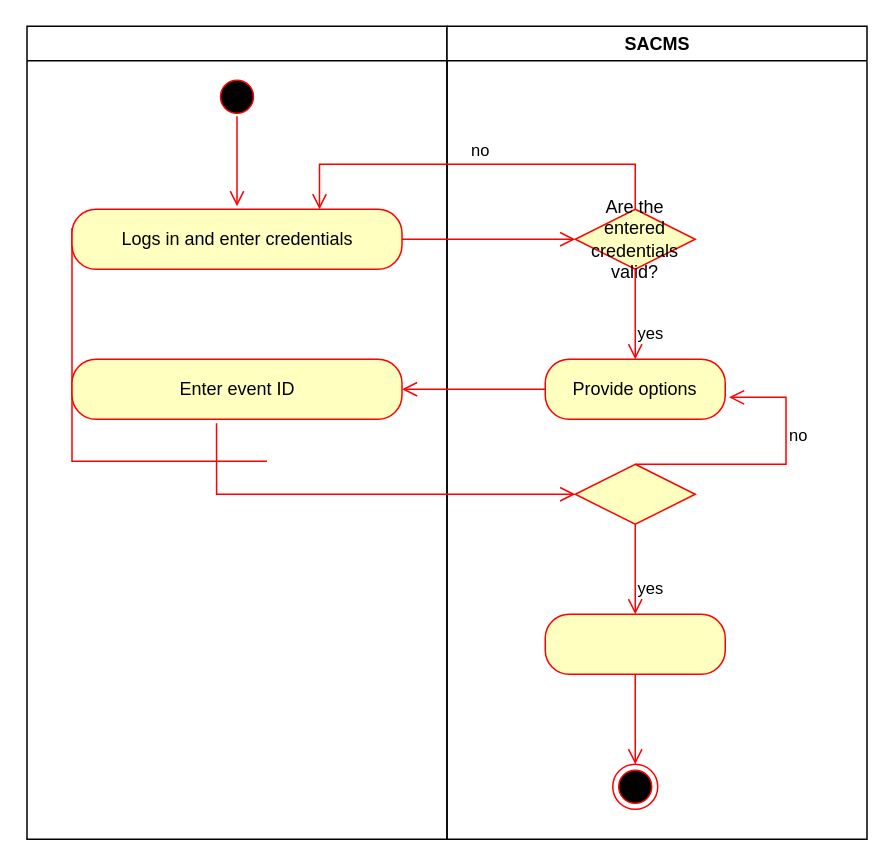
The diagram is 893 pixels wide and 866 high, and some of its shapes have lost their labels. The shapes that lost their labels are listed below. From the top down, each one's box as (x1, y1, x2, y2) in pixels, then its label:
(26, 25, 447, 839): Registered student
(574, 463, 695, 524): Are the options correct?
(544, 613, 725, 674): Confirm attendence
